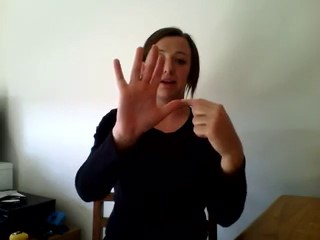A: (106, 44, 246, 154)
